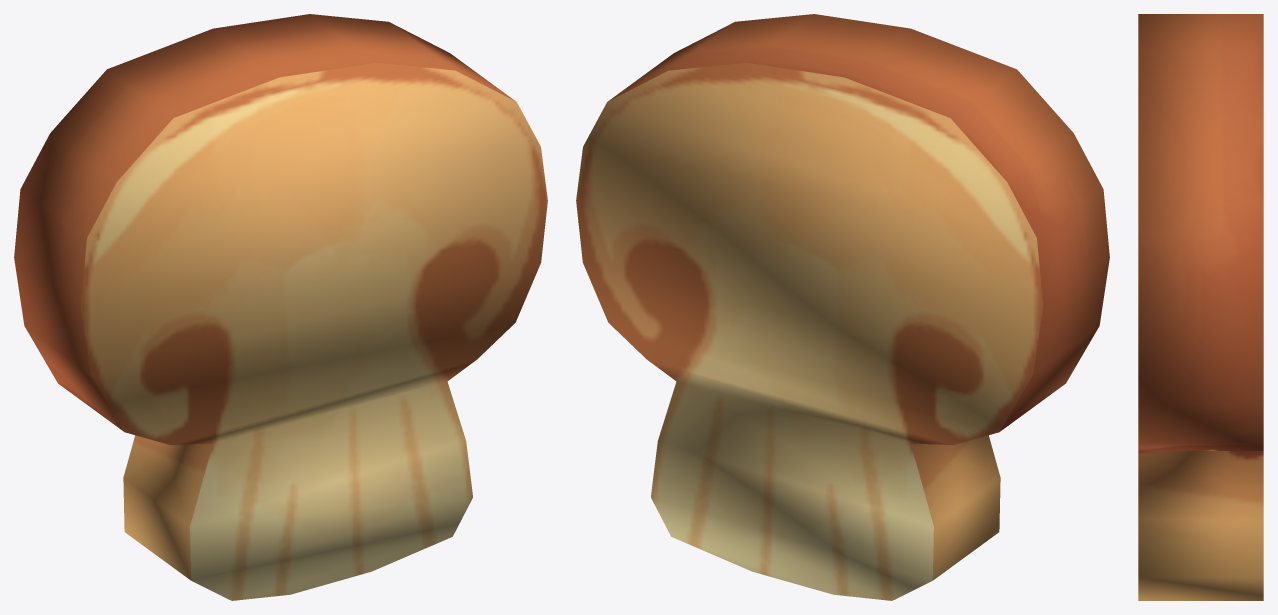
File: Jamur_Half.fbx
The picture shows the model from 3 angles, left to right: view 1: azimuth 30°, elevation 25°; view 2: azimuth 150°, elevation 25°; view 3: azimuth 270°, elevation 25°; orthographic projection. The views are drawn at different scales.
Visible parts, largest first — view 1: Plane.022; view 2: Plane.022; view 3: Plane.022.
Part boxes in pixels (x1,y1,x2,y2): Plane.022: (14, 14, 547, 600); Plane.022: (576, 14, 1109, 600); Plane.022: (1138, 14, 1263, 600).
Bounding box in the file's own units: 10.2 × 2.52 × 10.84.
Materials: 1 (1 with a texture image).
